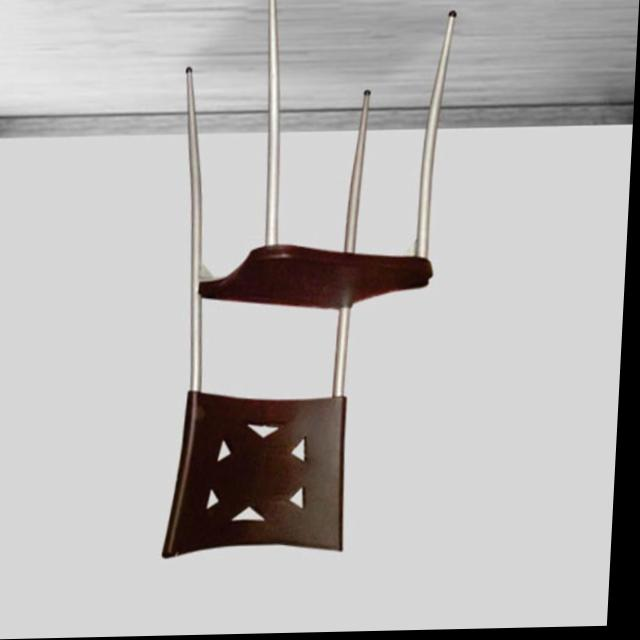Chair: (164, 0, 460, 560)
